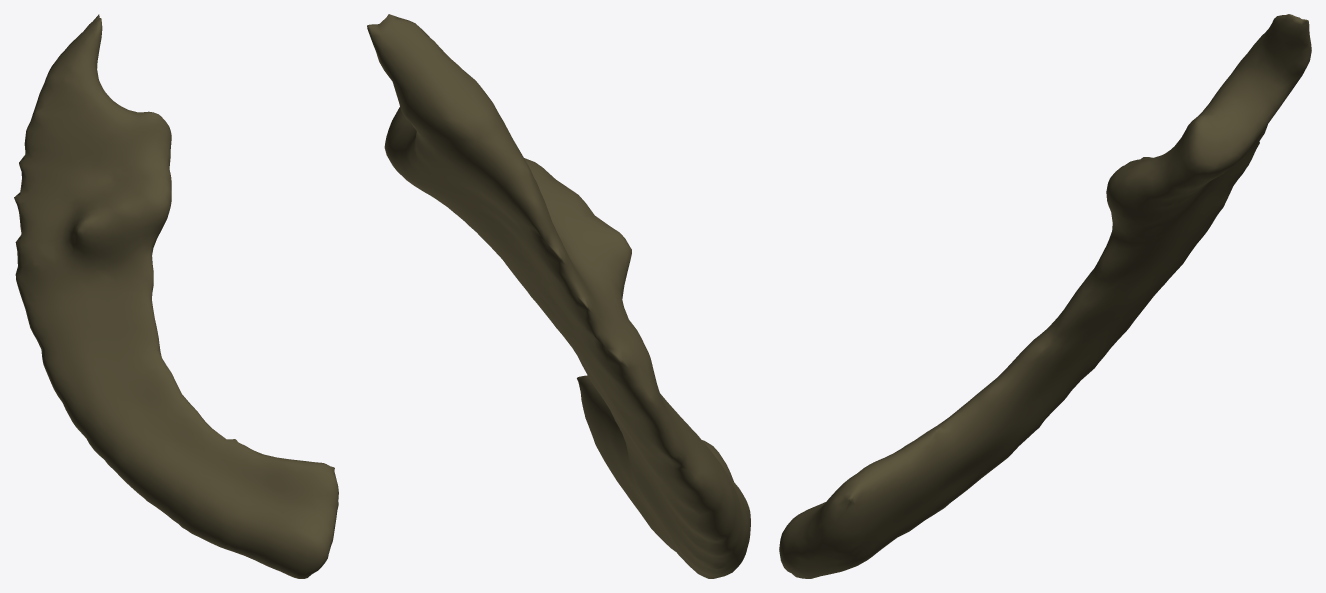
The model's file is segmentations_rib_left_1.obj.
The picture shows the model from 3 angles, left to right: view 1: azimuth 30°, elevation 25°; view 2: azimuth 150°, elevation 25°; view 3: azimuth 270°, elevation 25°; orthographic projection. The views are drawn at different scales.
Parts seen in each view (by area): view 1: grp1; view 2: grp1; view 3: grp1.
Part boxes in pixels (left/top/right/bottom): grp1: left=14, top=14, right=338, bottom=578; grp1: left=367, top=14, right=750, bottom=578; grp1: left=779, top=14, right=1311, bottom=578.
Size of the model in its own units: 20.7 by 46.85 by 40.66.
